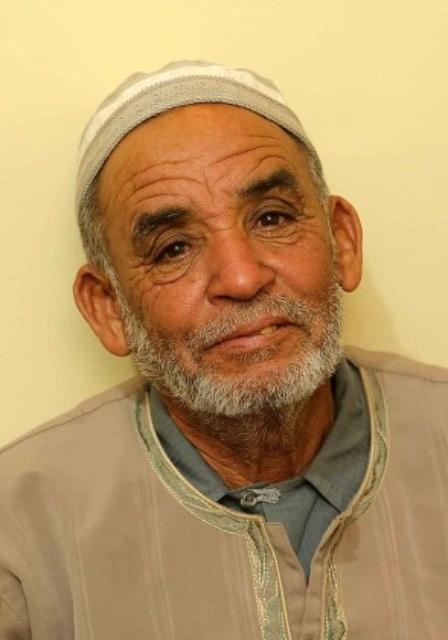crows_feet: (291, 198, 315, 246), (132, 250, 156, 290)
forehead: (221, 139, 283, 167), (130, 165, 162, 207), (169, 154, 199, 192)
frown_line: (200, 203, 230, 231), (198, 172, 222, 202)
